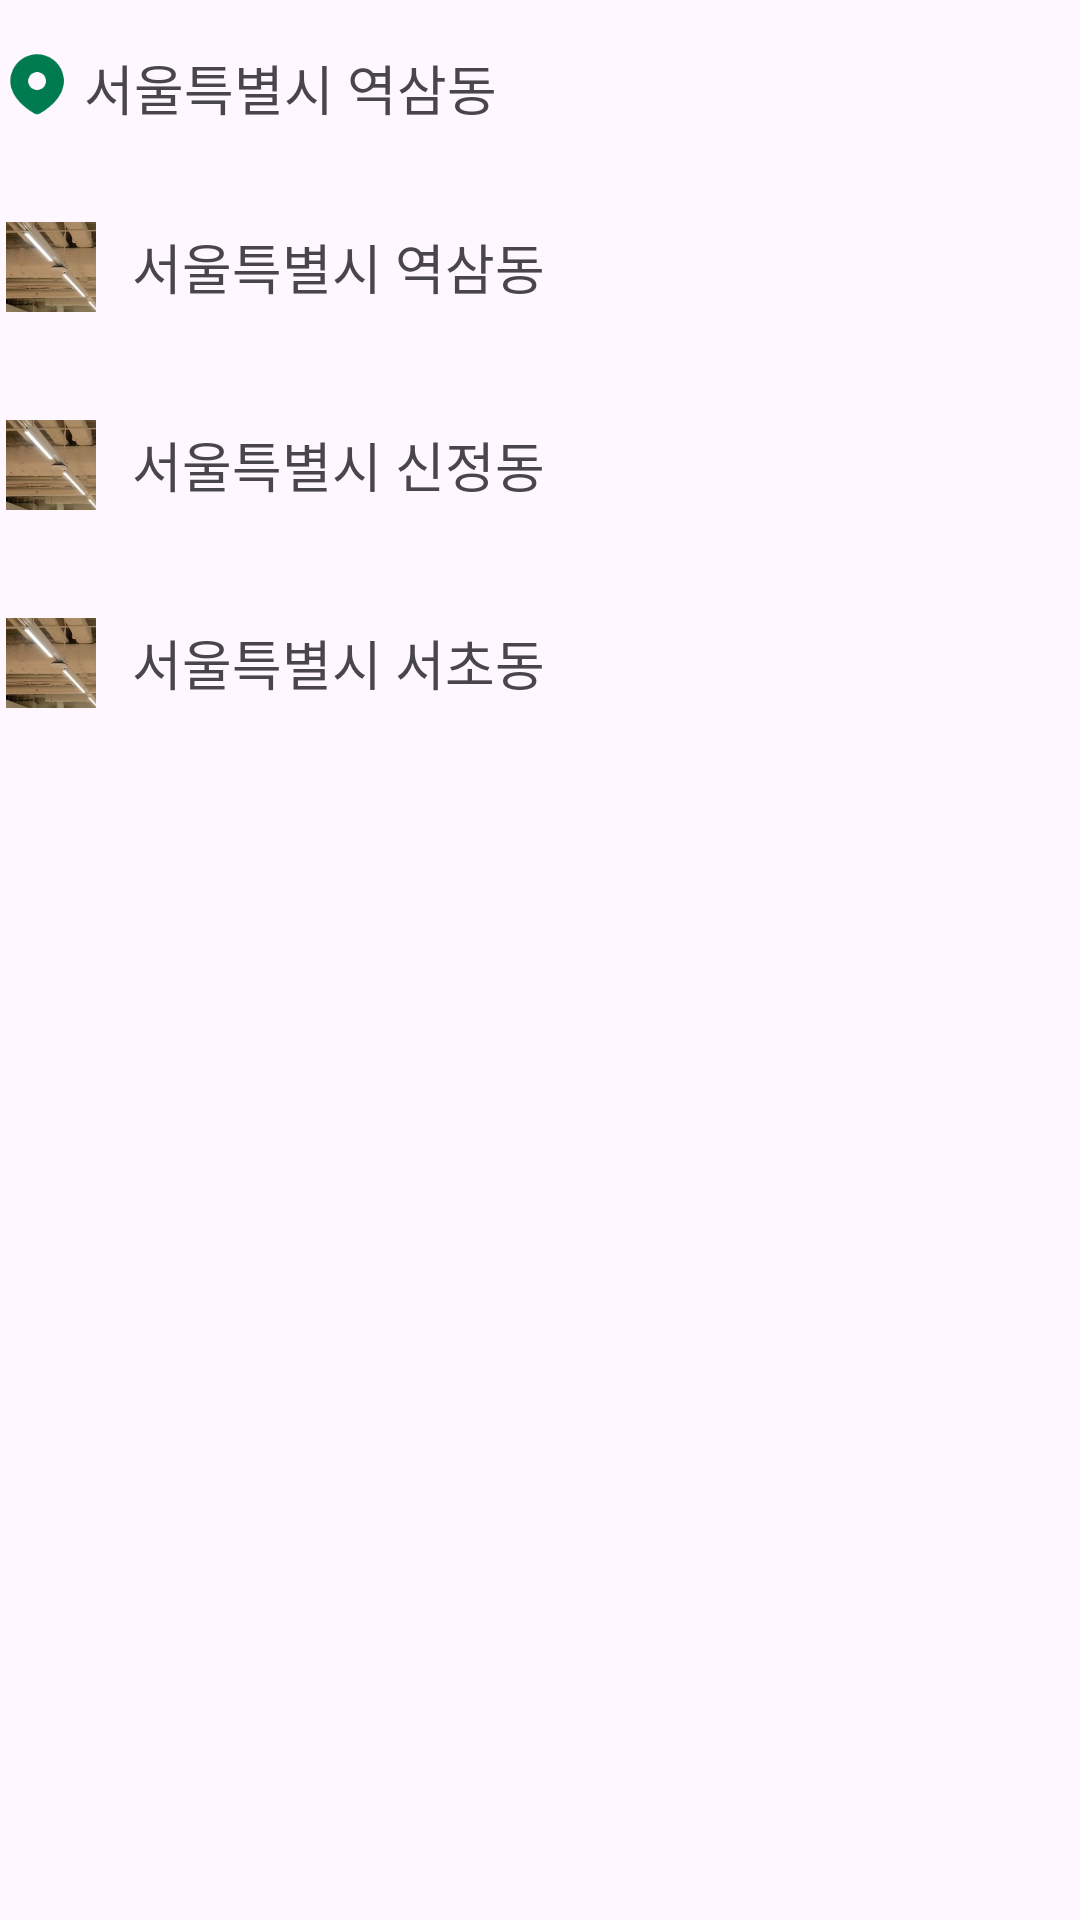

Point at icon controls on the screen. Image size 1080 × 1920, points as [x,y].
location: [37,84]
